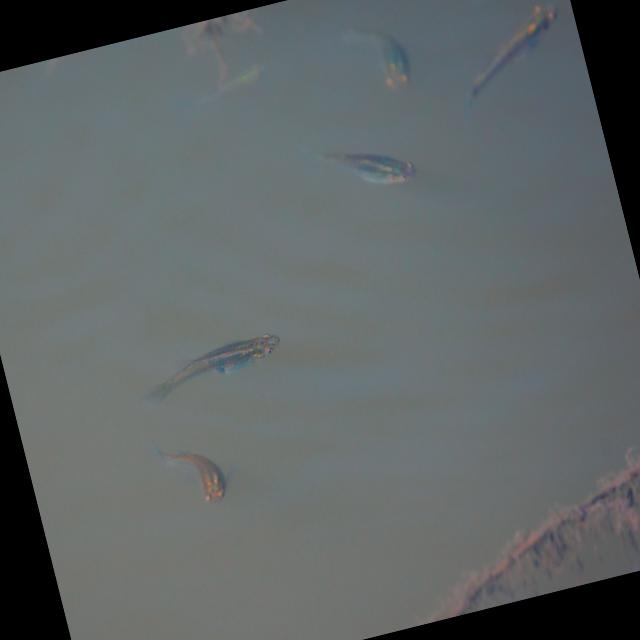Sivrisinek Baligi: (451, 0, 574, 103), (142, 326, 280, 400), (314, 127, 411, 200), (344, 5, 416, 94), (153, 431, 230, 512)
